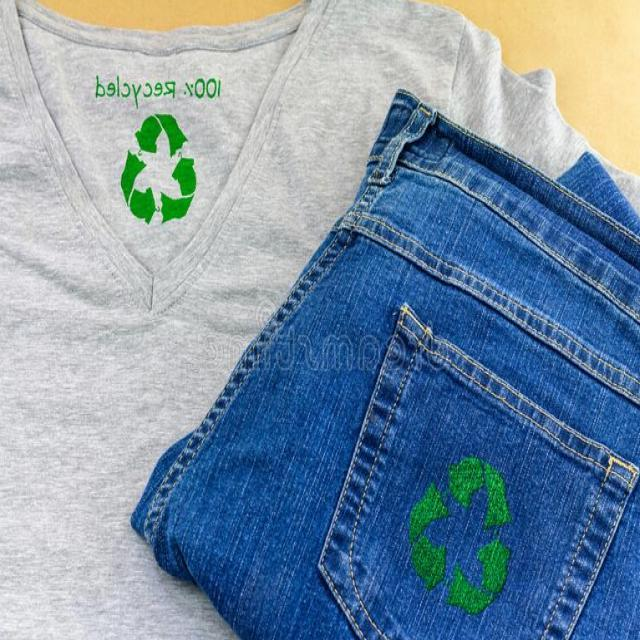clothes: (0, 20, 629, 640)
